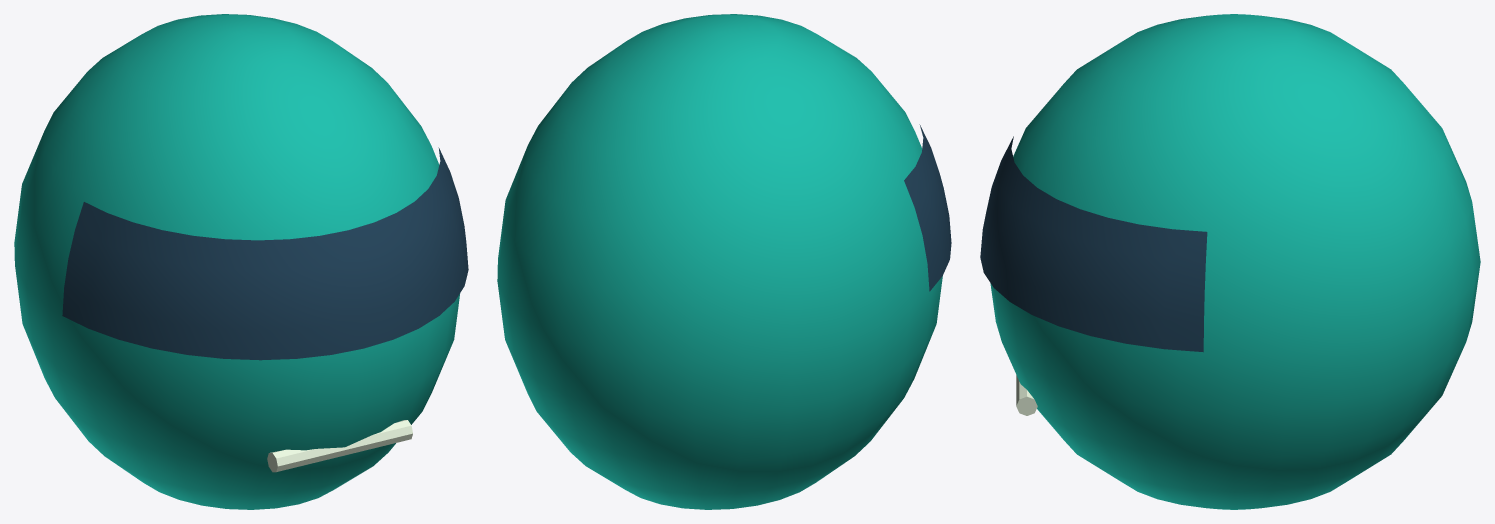
The model's file is classic.glb.
3 views of the same model, side by side, from view 1: azimuth 30°, elevation 25°; view 2: azimuth 150°, elevation 25°; view 3: azimuth 270°, elevation 25° (orthographic).
Visible parts, largest first — view 1: Helmet; view 2: Helmet; view 3: Helmet.
Part boxes in pixels (bbox=[...]): Helmet: bbox=[14, 14, 468, 509]; Helmet: bbox=[497, 14, 951, 509]; Helmet: bbox=[980, 14, 1480, 509].
Size of the model in its own units: 0.25 by 0.284 by 0.278.
